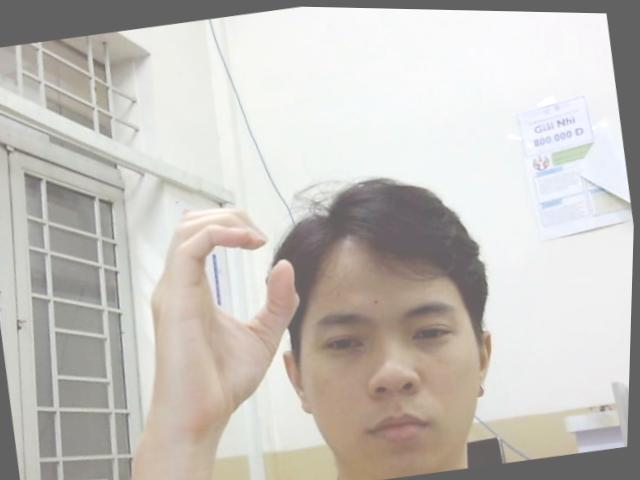C: (123, 190, 319, 427)
